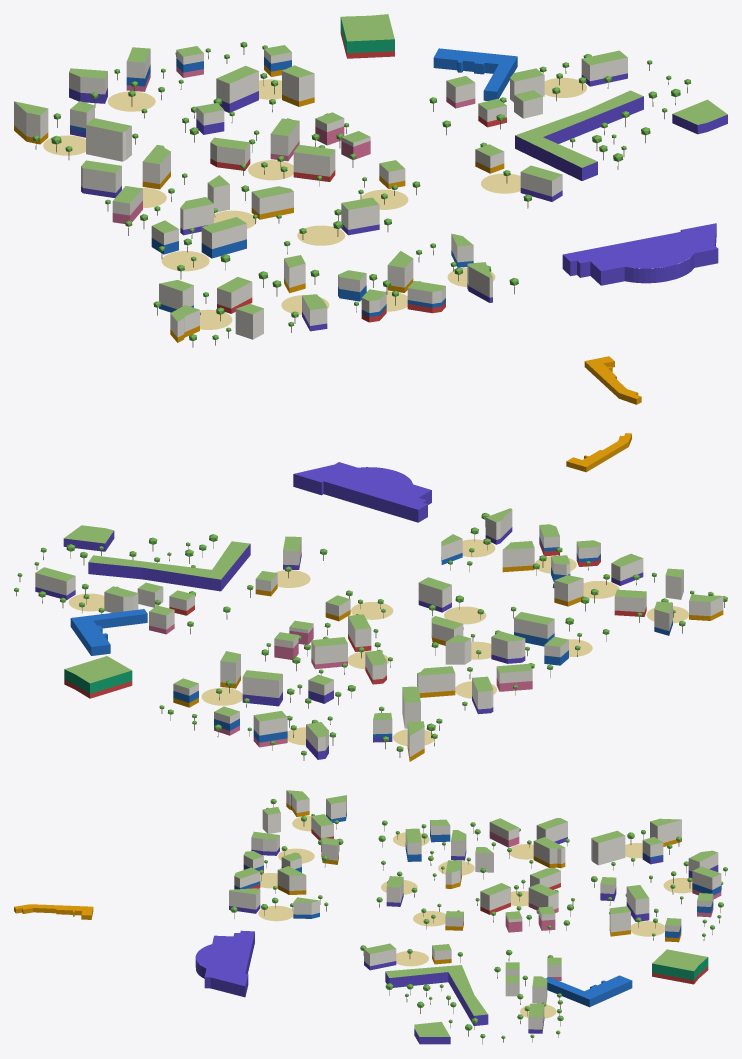
3 renders of one model, top to bottom at view 1: azimuth 30°, elevation 25°; view 2: azimuth 150°, elevation 25°; view 3: azimuth 270°, elevation 25°, orthographic. The views are drawn at different scales.
Visible parts, largest first — view 1: V8_P3_bildung, V8_P2_wohnen, V8_P1_wohnen, V8_P4_wohnen, V8_P3_wohnen, V8_P3_dach, V8_P1_dach, V8_P2_dach, V8_P3_platz, V8_P1_arbeiten, V8_P4_dach, V8_P3_baeume (+13 smaller); view 2: V8_P3_bildung, V8_P2_wohnen, V8_P4_wohnen, V8_P3_dach, V8_P3_wohnen, V8_P1_wohnen, V8_P1_dach, V8_P2_dach, V8_P1_arbeiten, V8_P3_platz, V8_P4_dach, V8_P4_platz (+10 smaller); view 3: V8_P3_bildung, V8_P4_wohnen, V8_P2_wohnen, V8_P1_wohnen, V8_P3_dach, V8_P3_wohnen, V8_P1_dach, V8_P2_dach, V8_P1_arbeiten, V8_P4_dach, V8_P3_platz, V8_P4_platz (+10 smaller).
Part boxes in pixels (x1,y1,x2,y2): V8_P3_bildung: (180,96,727,285); V8_P2_wohnen: (81,57,627,215); V8_P1_wohnen: (14,49,314,161); V8_P4_wohnen: (159,234,492,339); V8_P3_wohnen: (151,149,562,248); V8_P3_dach: (152,90,727,233); V8_P1_dach: (14,14,394,132); V8_P2_dach: (81,50,627,203); V8_P3_platz: (161,173,520,271); V8_P1_arbeiten: (70,48,517,132); V8_P4_dach: (160,233,492,321); V8_P3_baeume: (158,75,690,279); V8_P3_bildung: (63,462,525,663); V8_P2_wohnen: (35,573,532,709); V8_P4_wohnen: (441,509,723,630); V8_P3_dach: (64,525,568,646); V8_P3_wohnen: (255,538,568,664); V8_P1_wohnen: (173,655,424,756); V8_P1_dach: (64,651,424,737); V8_P2_dach: (35,567,532,691); V8_P1_arbeiten: (70,609,392,742); V8_P3_platz: (275,570,592,659); V8_P4_dach: (441,508,722,613); V8_P4_platz: (462,539,688,623); V8_P3_bildung: (195,850,488,1044); V8_P4_wohnen: (229,790,346,914); V8_P2_wohnen: (480,822,567,1029); V8_P1_wohnen: (591,819,721,932); V8_P3_dach: (364,819,493,1036); V8_P3_wohnen: (364,820,493,966); V8_P1_dach: (591,818,720,971); V8_P2_dach: (480,818,567,1017); V8_P1_arbeiten: (546,852,721,1007); V8_P4_dach: (229,790,346,902); V8_P3_platz: (381,832,474,966); V8_P4_platz: (258,816,314,921).
Bounding box in the file's own units: 524 × 22.8 × 661.
